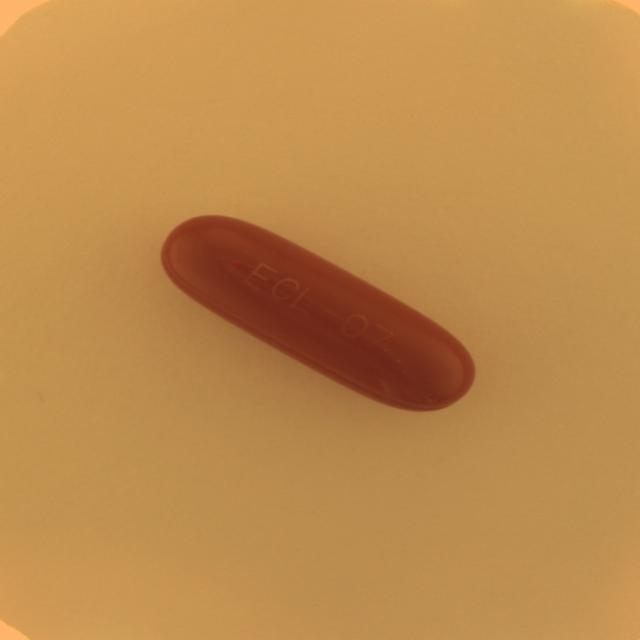Oval: (159, 212, 477, 415)
